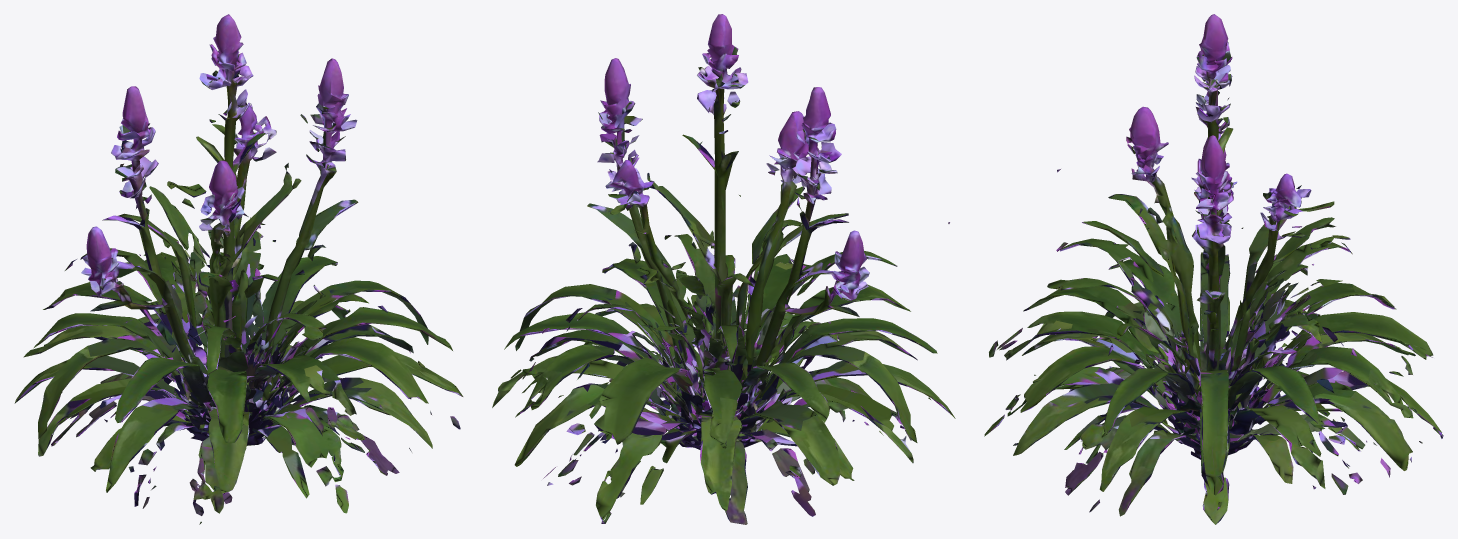
File: jatamansi.glb
3 views of the same model, side by side, from view 1: azimuth 30°, elevation 25°; view 2: azimuth 150°, elevation 25°; view 3: azimuth 270°, elevation 25° (orthographic).
Visible parts, largest first — view 1: world; view 2: world; view 3: world.
Part boxes in pixels (x1=…): world: x1=14, y1=14, x2=463, y2=524; world: x1=492, y1=14, x2=955, y2=524; world: x1=984, y1=14, x2=1443, y2=524.
Bounding box in the file's own units: 1.89 × 1.99 × 1.91.
1 material, 1 textured.
